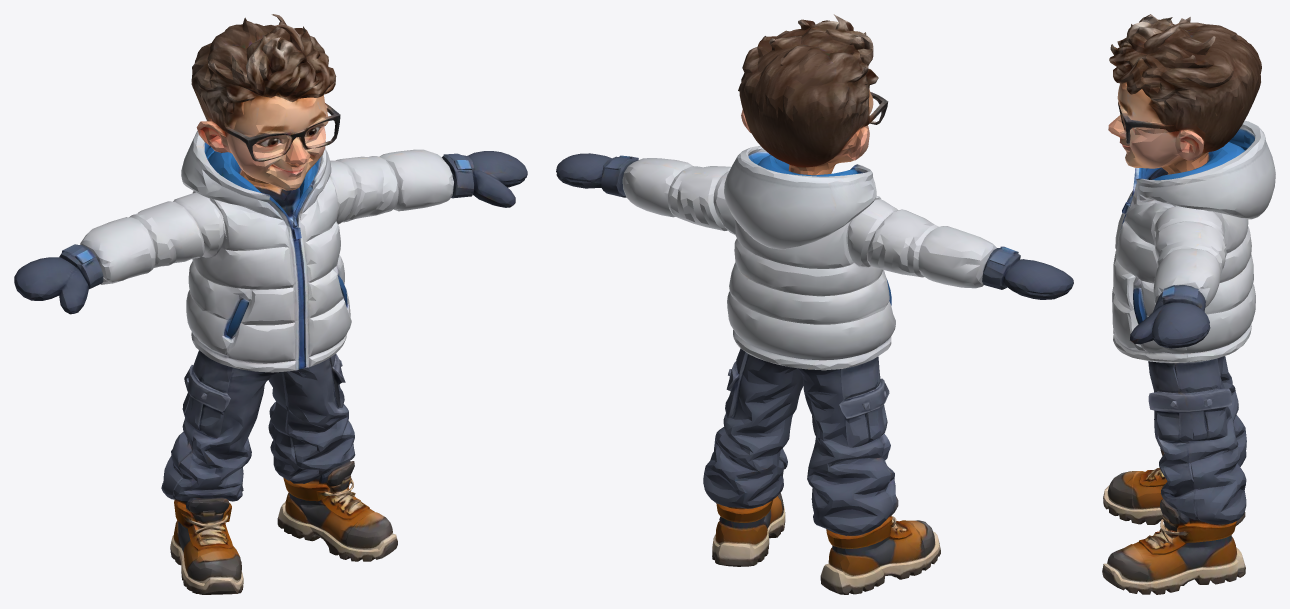
File: snowKid.glb
The picture shows the model from 3 angles, left to right: view 1: azimuth 30°, elevation 25°; view 2: azimuth 150°, elevation 25°; view 3: azimuth 270°, elevation 25°; orthographic projection.
Visible parts, largest first — view 1: model; view 2: model; view 3: model.
Part boxes in pixels (left/top/right/bottom): model: left=14, top=14, right=527, bottom=594; model: left=556, top=14, right=1073, bottom=594; model: left=1102, top=14, right=1275, bottom=594.
Size of the model in its own units: 1.89 by 1.9 by 0.5644.
Materials: 1 (1 with a texture image).
